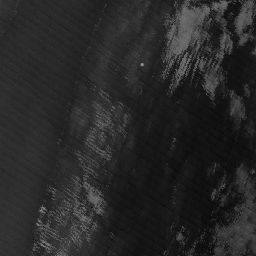Target: (139, 61, 145, 67)
